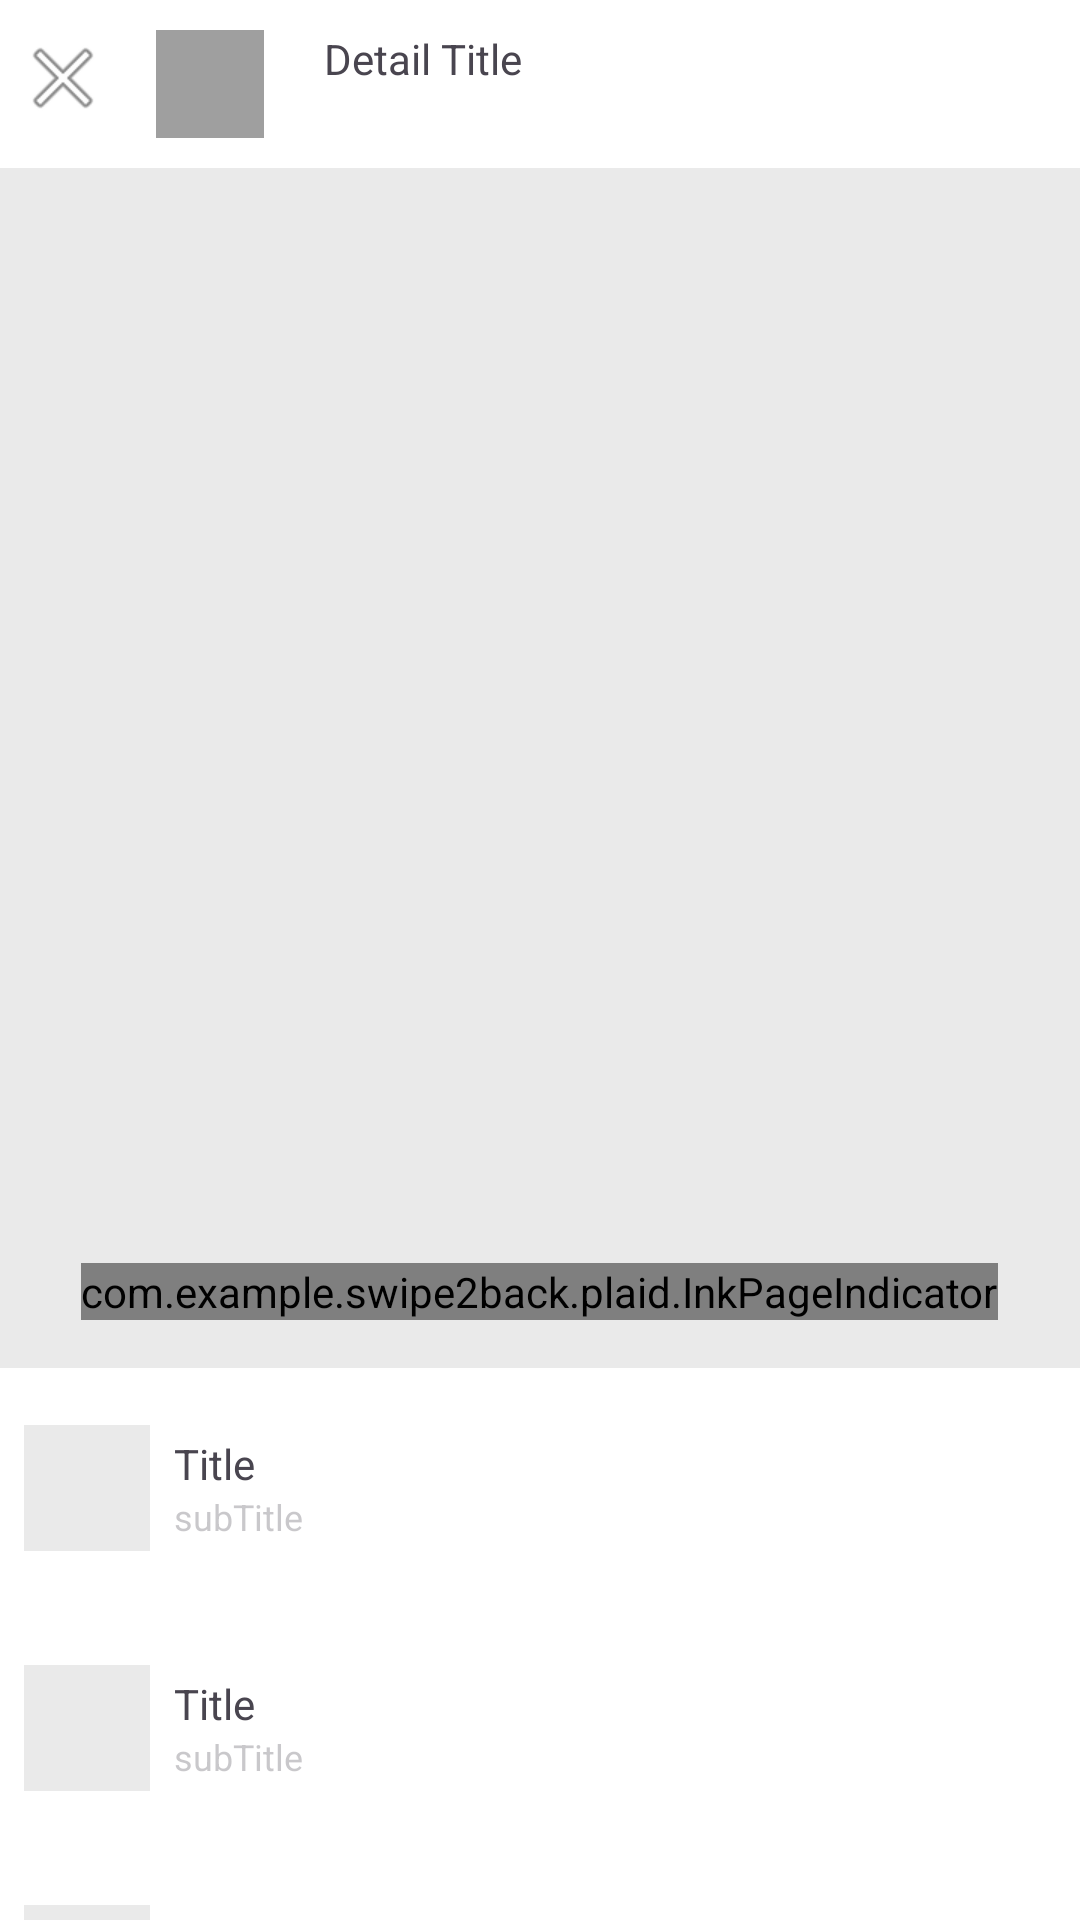

Where icons sit on this 1080*1920 app screen, as (x1, y1, x2, y2):
close clear cancel: (33, 48, 93, 108)
